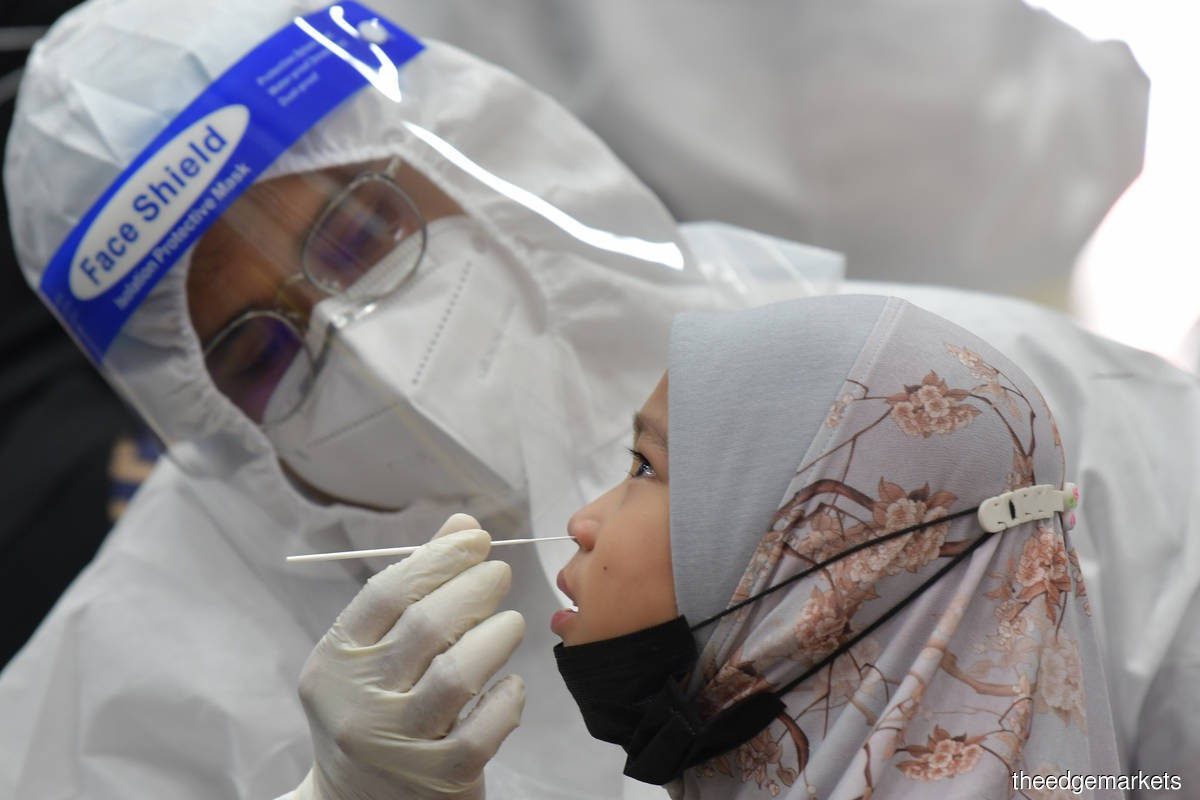Face_Shield: (33, 1, 577, 514)
Gloves: (289, 501, 530, 799)
mask_weared_incorrect: (551, 401, 703, 792)
with_mask: (202, 207, 513, 470)
